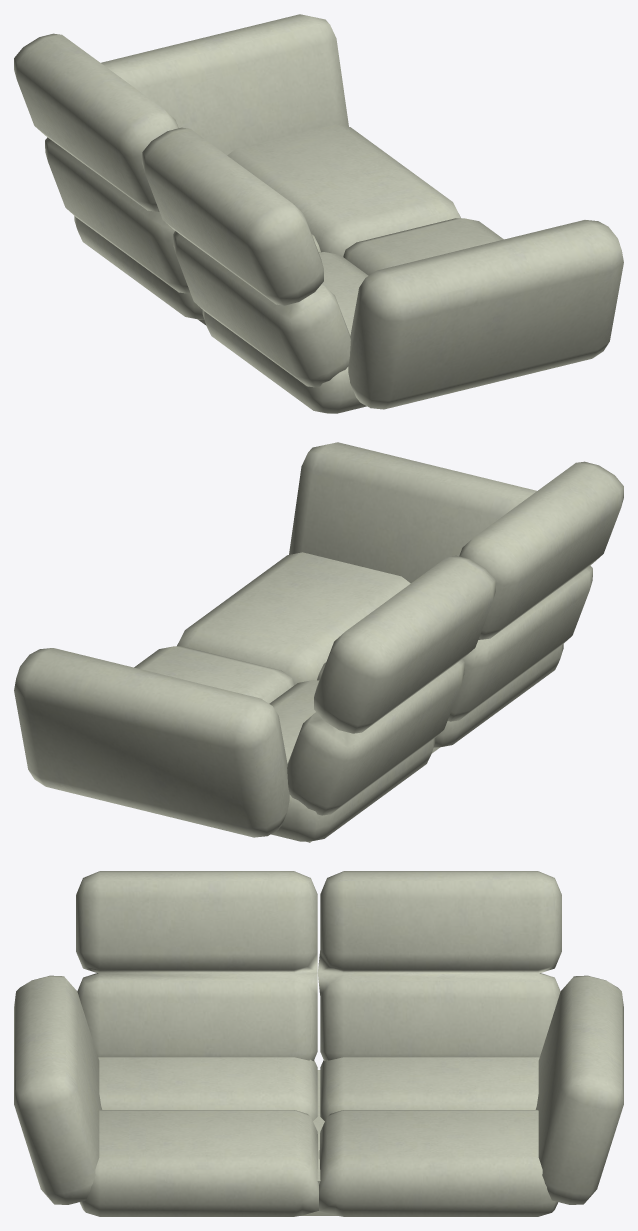
The model's file is Simple_sofa.dae.
3 views of the same model, one above another, from view 1: azimuth 30°, elevation 25°; view 2: azimuth 150°, elevation 25°; view 3: azimuth 270°, elevation 25° (orthographic). The views are drawn at different scales.
Parts seen in each view (by area): view 1: Simple_Sofa; view 2: Simple_Sofa; view 3: Simple_Sofa.
Boxes of the visible parts, bbox=[...] form: Simple_Sofa: bbox=[14, 14, 623, 413]; Simple_Sofa: bbox=[14, 442, 623, 842]; Simple_Sofa: bbox=[14, 871, 623, 1216].
Bounding box in the file's own units: 0.7713 × 1.26 × 0.4747.
Materials: 1 (1 with a texture image).
